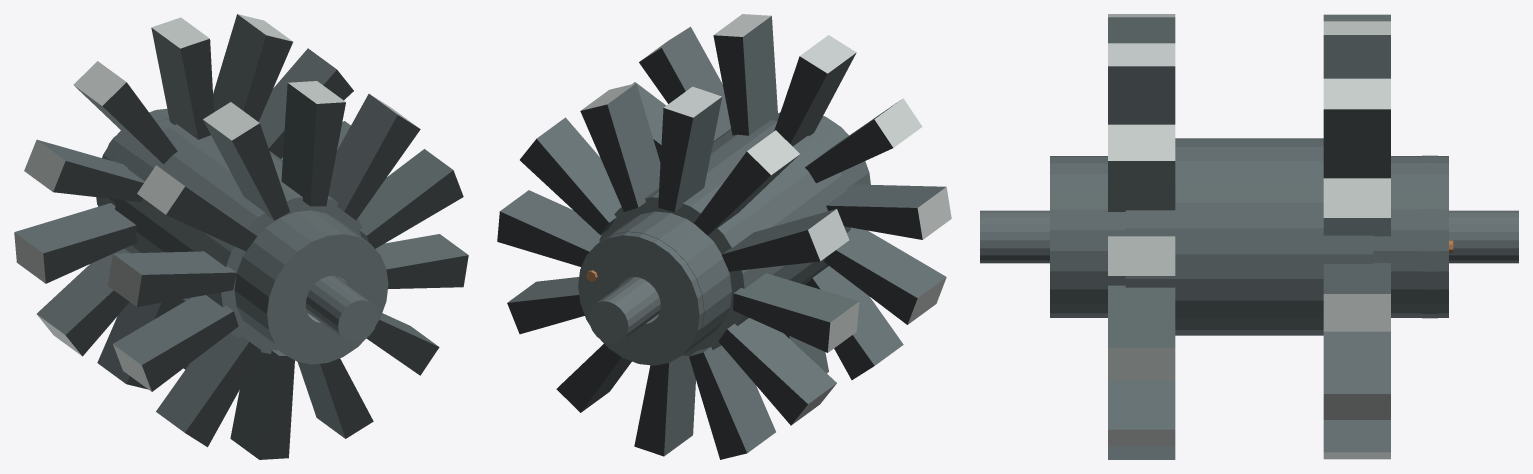
File: turbine_rotor_unformed.obj
3 renders of one model, left to right at view 1: azimuth 30°, elevation 25°; view 2: azimuth 150°, elevation 25°; view 3: azimuth 270°, elevation 25°, orthographic. The views are drawn at different scales.
Parts seen in each view (by area): view 1: stepped_hub, blade_row1_n06, blade_row1_n02, blade_row1_n01, blade_row0_n06, blade_row1_n07, blade_row1_n00, blade_row1_n05, blade_row0_n03, blade_row1_n08, blade_row0_n02, blade_row1_n03 (+11 smaller); view 2: stepped_hub, blade_row0_n02, blade_row0_n07, blade_row1_n06, blade_row0_n06, blade_row1_n02, blade_row0_n01, blade_row0_n08, blade_row0_n03, blade_row1_n05, blade_row0_n00, blade_row0_n05 (+12 smaller); view 3: stepped_hub, rotor_shaft, blade_row0_n02, blade_row1_n11, blade_row0_n11, blade_row1_n01, blade_row1_n02, blade_row0_n00, blade_row1_n10, blade_row0_n01, blade_row0_n03, blade_row1_n00 (+5 smaller).
Boxes of the visible parts, x1,y1,x2,y2 form: stepped_hub: (96, 108, 388, 364); blade_row1_n06: (113, 295, 238, 391); blade_row1_n02: (281, 81, 345, 206); blade_row1_n01: (328, 94, 420, 220); blade_row0_n06: (14, 203, 137, 283); blade_row1_n07: (156, 333, 261, 447); blade_row1_n00: (357, 149, 463, 248); blade_row1_n05: (107, 251, 236, 306); blade_row0_n03: (151, 17, 213, 139); blade_row1_n08: (230, 350, 294, 459); blade_row0_n02: (213, 14, 292, 121); blade_row1_n03: (203, 102, 289, 220); stepped_hub: (578, 112, 870, 365); blade_row0_n02: (580, 83, 660, 211); blade_row0_n07: (718, 318, 836, 425); blade_row1_n06: (824, 227, 946, 324); blade_row0_n06: (733, 273, 859, 352); blade_row1_n02: (713, 14, 778, 135); blade_row0_n01: (520, 117, 621, 234); blade_row0_n08: (689, 345, 775, 459); blade_row0_n03: (658, 86, 722, 212); blade_row1_n05: (826, 184, 951, 239); blade_row0_n00: (497, 190, 601, 266); blade_row0_n05: (721, 209, 849, 271); stepped_hub: (1050, 138, 1448, 335); rotor_shaft: (980, 210, 1518, 263); blade_row0_n02: (1323, 78, 1390, 178); blade_row1_n11: (1108, 285, 1175, 380); blade_row0_n11: (1323, 331, 1390, 419); blade_row1_n01: (1108, 124, 1175, 211); blade_row1_n02: (1108, 43, 1175, 124); blade_row0_n00: (1323, 263, 1390, 331); blade_row1_n10: (1108, 380, 1175, 446); blade_row0_n01: (1323, 178, 1390, 236); blade_row0_n03: (1323, 21, 1390, 78); blade_row1_n00: (1108, 236, 1175, 275).
Bounding box in the file's own units: 0.8275 × 0.8275 × 1.
